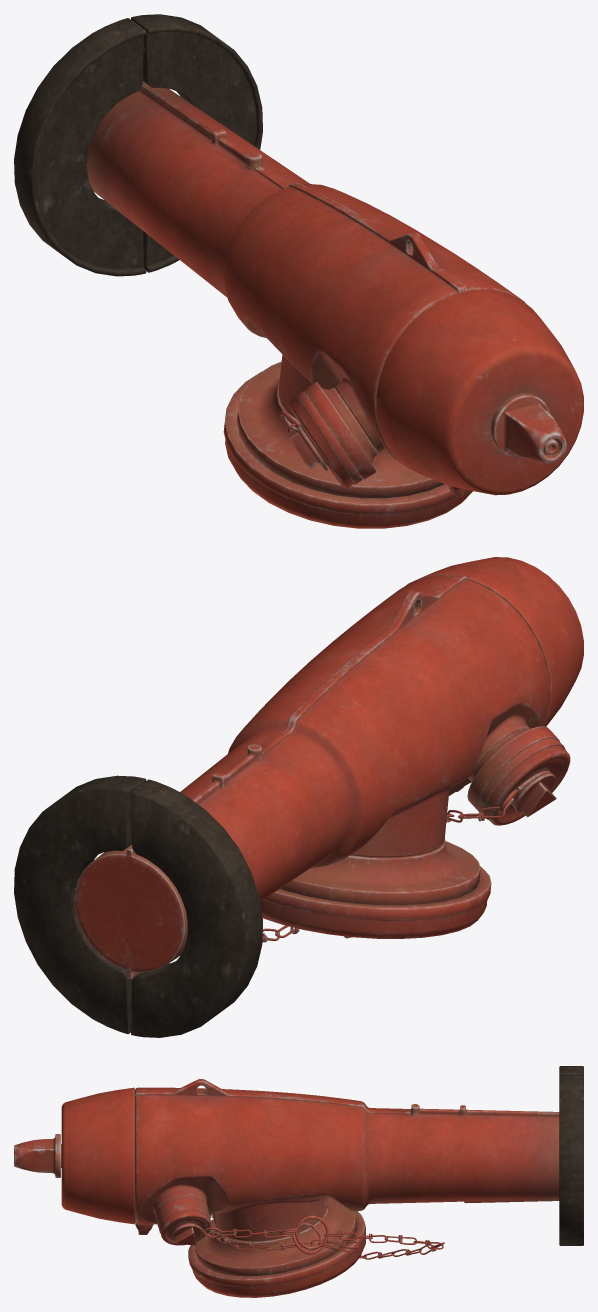
3 renders of one model, top to bottom at view 1: azimuth 30°, elevation 25°; view 2: azimuth 150°, elevation 25°; view 3: azimuth 270°, elevation 25°, orthographic. The views are drawn at different scales.
Visible parts, largest first — view 1: fire_hydrant (×2); view 2: fire_hydrant (×2), fire_hydrant_chain; view 3: fire_hydrant (×2), fire_hydrant_chain.
Boxes of the visible parts, box(x1,y1,x2,y2) form: fire_hydrant (×2): box(14, 14, 583, 528); fire_hydrant (×2): box(14, 557, 583, 1037); fire_hydrant_chain: box(262, 770, 551, 942); fire_hydrant (×2): box(14, 1066, 583, 1297); fire_hydrant_chain: box(174, 1214, 444, 1259).
Size of the model in its own units: 0.2746 by 0.3177 by 0.7995.
Materials: 1 (1 with a texture image).
